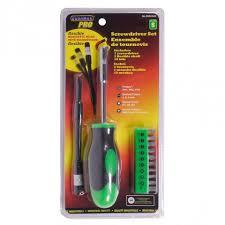screwdriver: (88, 45, 120, 207)
